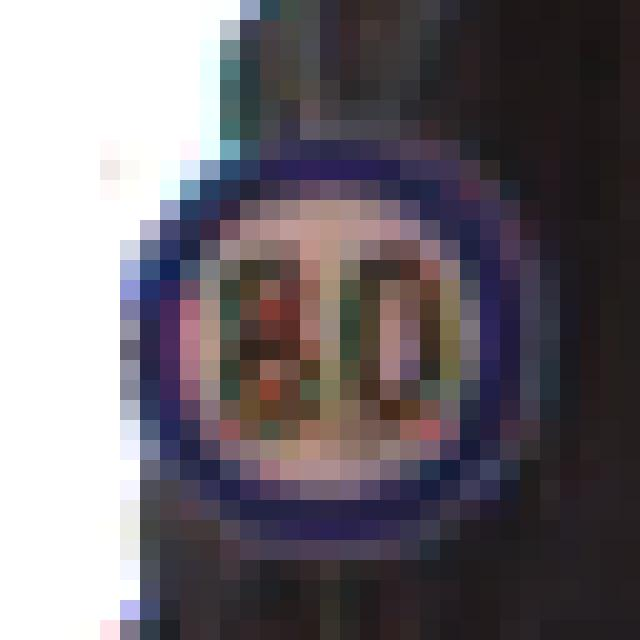SPEED-LIMIT-80: (117, 147, 536, 559)
